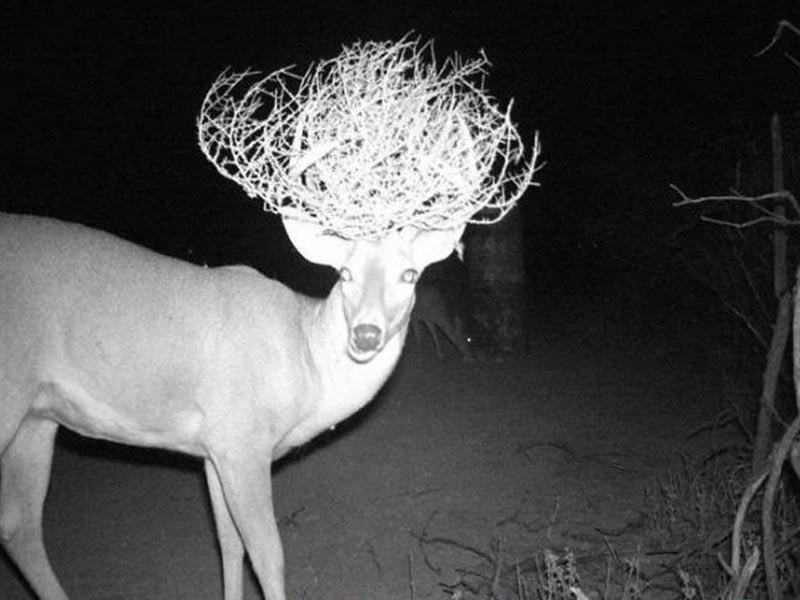cervo: (1, 41, 511, 594)
